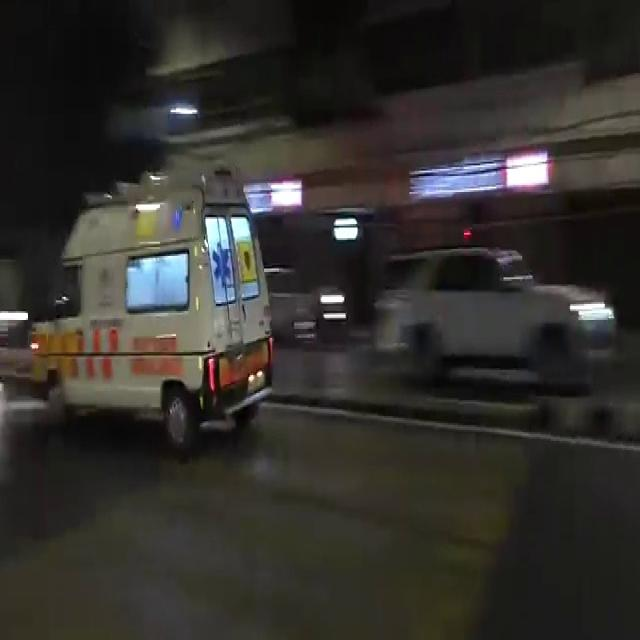ambulance: (24, 196, 278, 410)
